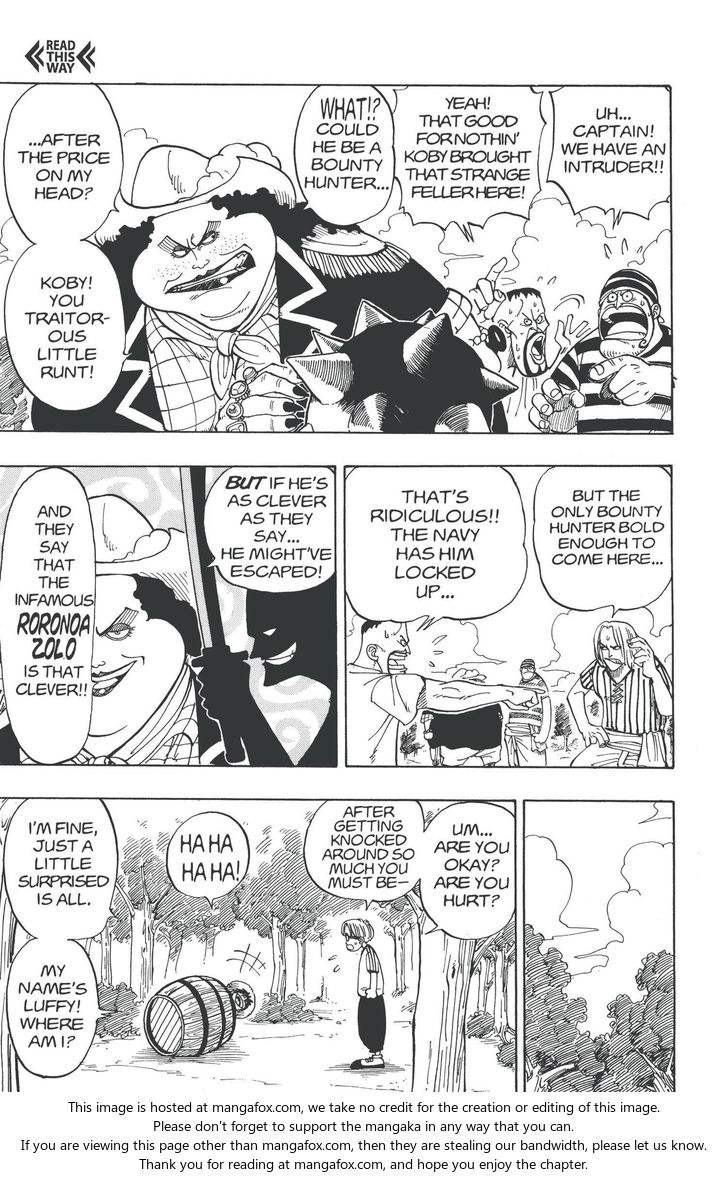bubble: (343, 466, 528, 629), (0, 465, 98, 765), (393, 85, 546, 242), (5, 240, 133, 411), (533, 465, 672, 619), (4, 84, 123, 244), (547, 86, 671, 228), (204, 465, 336, 594), (3, 798, 118, 940), (6, 938, 119, 1077), (294, 85, 395, 225), (303, 799, 425, 909), (420, 801, 517, 939), (165, 811, 250, 908)
